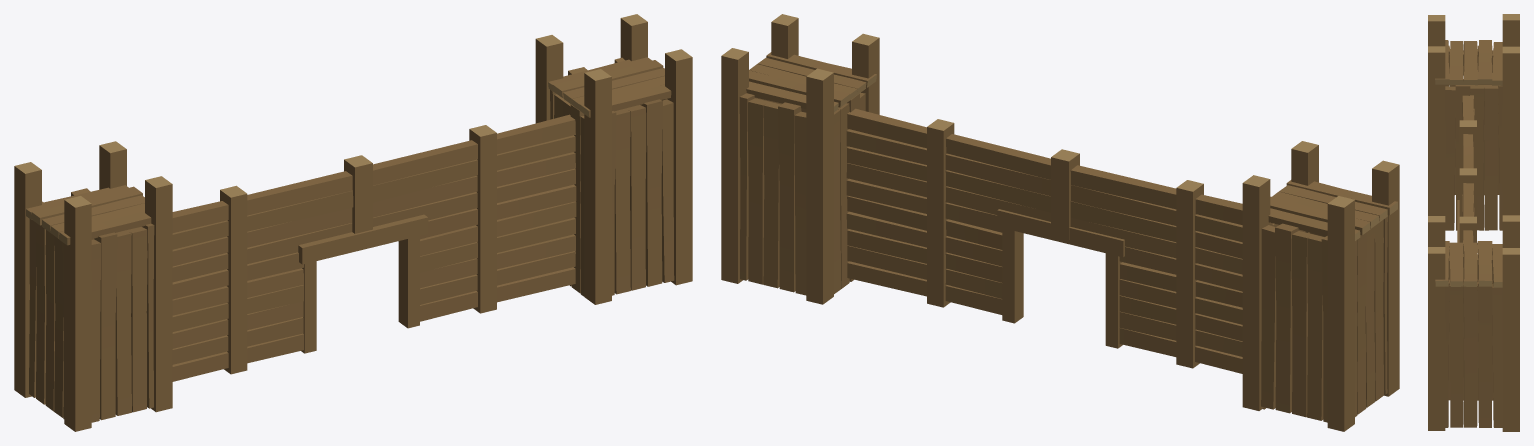
Rendered from Wall Towers.glb.
The picture shows the model from 3 angles, left to right: view 1: azimuth 30°, elevation 25°; view 2: azimuth 150°, elevation 25°; view 3: azimuth 270°, elevation 25°; orthographic projection. The views are drawn at different scales.
Parts seen in each view (by area): view 1: WallTowers_Door_FirstAge; view 2: WallTowers_Door_FirstAge; view 3: WallTowers_Door_FirstAge.
Boxes of the visible parts, box(x1,y1,x2,y2) form: WallTowers_Door_FirstAge: box(14, 14, 692, 431); WallTowers_Door_FirstAge: box(721, 14, 1399, 431); WallTowers_Door_FirstAge: box(1428, 14, 1519, 431).
Size of the model in its own units: 1.94 by 0.6725 by 0.3135.
